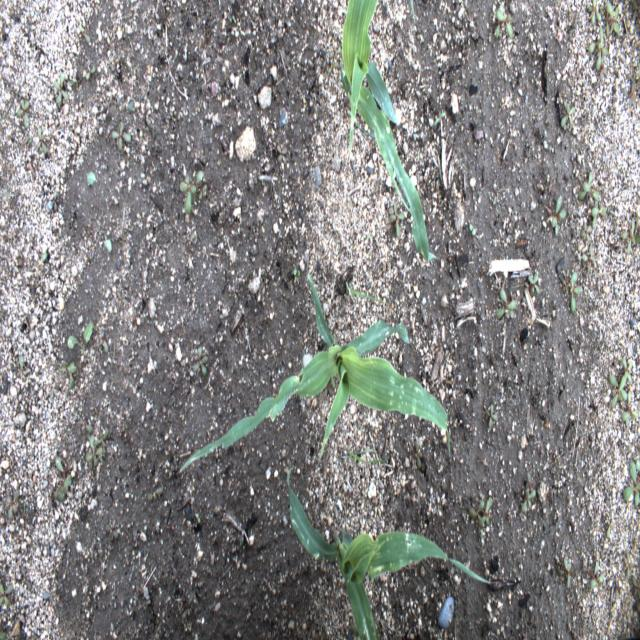crop: (180, 272, 451, 470), (288, 468, 490, 640), (339, 0, 430, 263), (409, 0, 416, 28)
weed: (586, 28, 608, 72), (85, 424, 108, 463), (608, 372, 631, 410), (68, 319, 93, 352), (622, 457, 638, 508), (495, 2, 515, 41), (468, 496, 491, 529), (348, 449, 387, 468), (179, 173, 196, 216), (388, 199, 406, 239), (590, 189, 607, 229), (621, 219, 640, 254), (495, 288, 516, 319), (111, 121, 132, 152), (604, 3, 622, 37), (584, 562, 604, 592), (569, 269, 582, 315), (552, 200, 566, 238), (193, 343, 208, 378), (53, 74, 69, 106), (344, 282, 374, 299), (60, 359, 76, 389), (558, 556, 572, 589), (559, 102, 576, 129), (578, 170, 592, 202), (16, 98, 30, 129), (623, 80, 638, 108), (519, 488, 535, 513), (58, 473, 72, 501), (582, 241, 594, 273), (7, 491, 19, 522), (587, 2, 603, 25), (620, 355, 634, 380), (0, 581, 13, 607), (486, 402, 498, 430), (197, 171, 207, 202), (621, 411, 640, 426), (528, 271, 540, 294), (36, 126, 46, 153), (413, 441, 422, 469), (577, 221, 591, 239), (69, 70, 82, 89), (148, 488, 164, 502), (107, 522, 119, 540), (433, 112, 446, 128), (116, 290, 128, 306), (85, 67, 97, 82), (327, 44, 339, 58), (85, 170, 96, 184), (40, 249, 49, 264), (292, 266, 300, 282), (104, 237, 112, 252), (18, 354, 25, 371), (468, 222, 476, 236), (55, 459, 64, 471), (328, 63, 337, 73), (196, 511, 202, 525), (128, 102, 134, 114), (0, 630, 7, 639), (104, 339, 108, 354), (84, 34, 90, 44), (416, 152, 423, 159), (232, 13, 236, 25), (366, 232, 370, 243)
